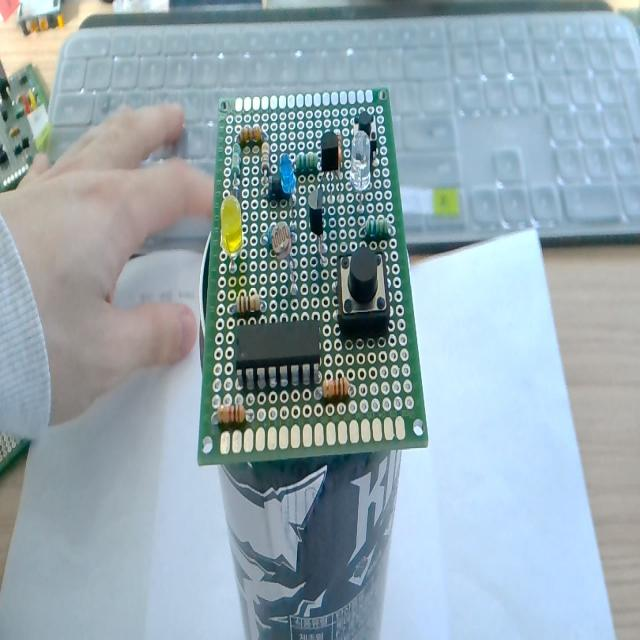IC: (236, 319, 322, 392)
cds: (270, 218, 300, 276)
diode: (263, 178, 291, 199)
led: (220, 195, 244, 272), (349, 129, 372, 192), (279, 152, 297, 202)
resistor: (217, 402, 246, 427), (322, 376, 349, 400), (366, 216, 390, 239), (296, 151, 320, 174), (239, 125, 264, 146), (238, 292, 260, 314), (231, 143, 241, 180), (261, 142, 270, 172)
switch: (337, 246, 389, 338), (355, 110, 375, 168)
transistor: (306, 186, 330, 261), (320, 132, 340, 172)
